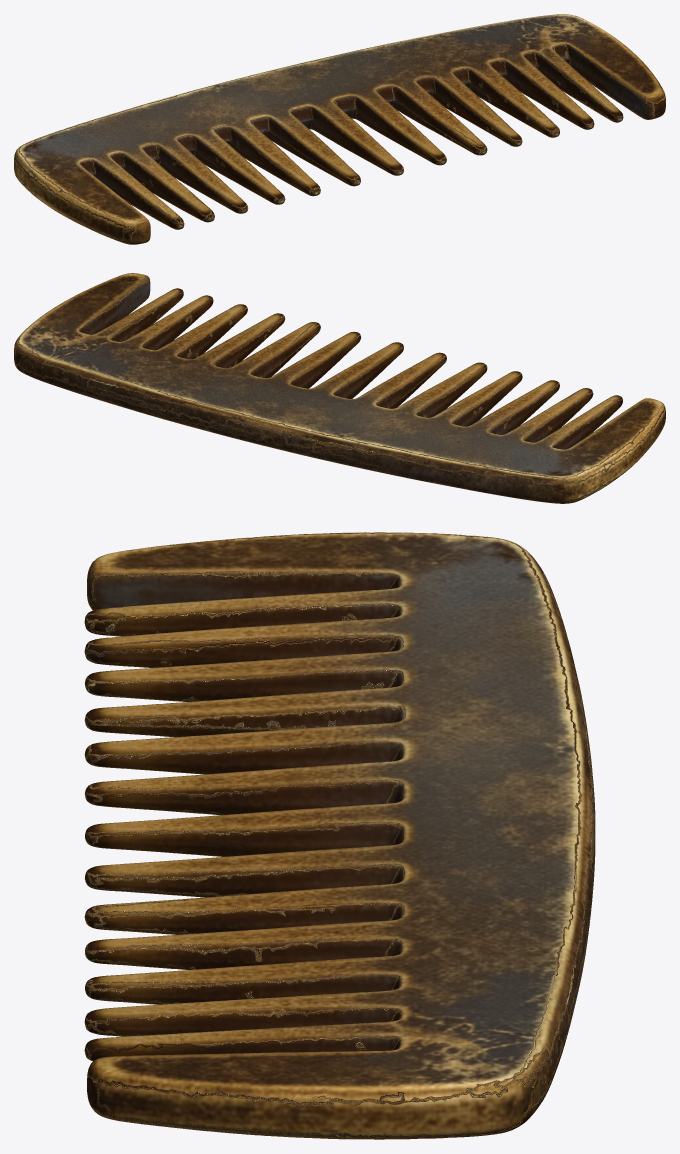
The picture shows the model from 3 angles, top to bottom: view 1: azimuth 30°, elevation 25°; view 2: azimuth 150°, elevation 25°; view 3: azimuth 270°, elevation 25°; orthographic projection. The views are drawn at different scales.
Bounding box in the file's own units: 1.99 × 0.0869 × 0.7589.
1 material, 1 textured.
